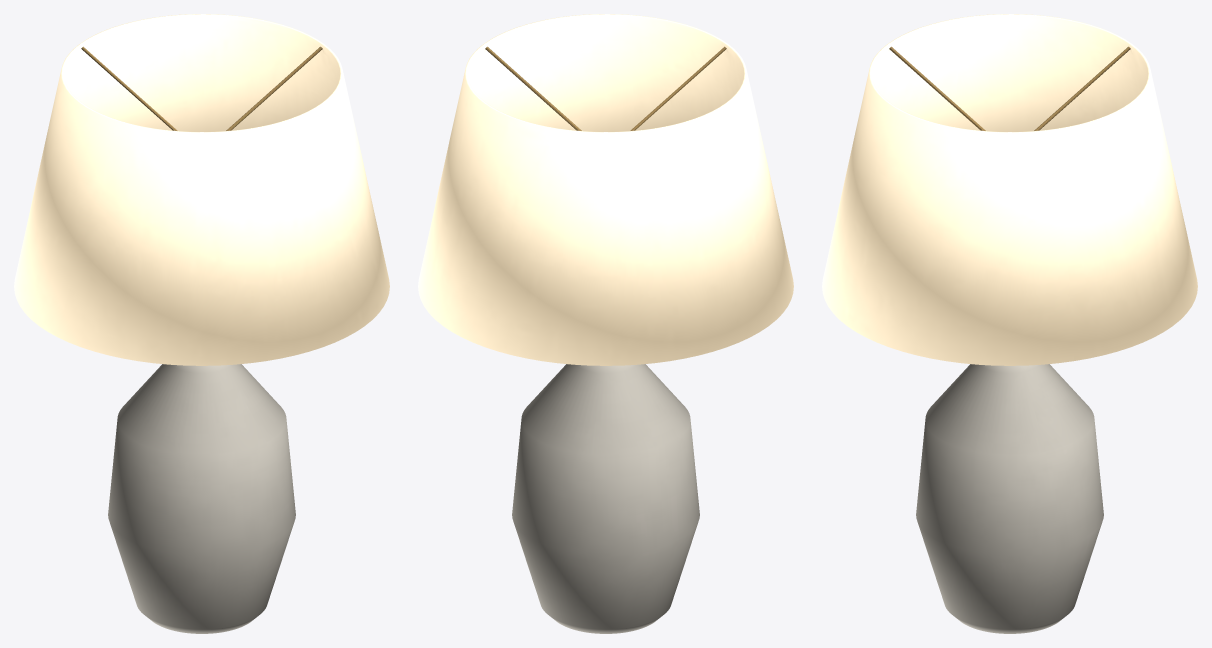
File: table-ceramic.glb
3 views of the same model, side by side, from view 1: azimuth 30°, elevation 25°; view 2: azimuth 150°, elevation 25°; view 3: azimuth 270°, elevation 25° (orthographic).
Parts seen in each view (by area): view 1: fabric_secondary_shade, ceramic_primary, brass; view 2: fabric_secondary_shade, ceramic_primary, brass; view 3: fabric_secondary_shade, ceramic_primary, brass.
Boxes of the visible parts, x1,y1,x2,y2 form: fabric_secondary_shade: [14, 14, 389, 365]; ceramic_primary: [108, 364, 295, 633]; brass: [81, 46, 322, 130]; fabric_secondary_shade: [418, 14, 793, 365]; ceramic_primary: [512, 364, 699, 633]; brass: [485, 46, 726, 130]; fabric_secondary_shade: [822, 14, 1197, 365]; ceramic_primary: [916, 364, 1103, 633]; brass: [889, 46, 1130, 130].
Bounding box in the file's own units: 0.4 × 0.63 × 0.4.
4 materials, 3 textured.
